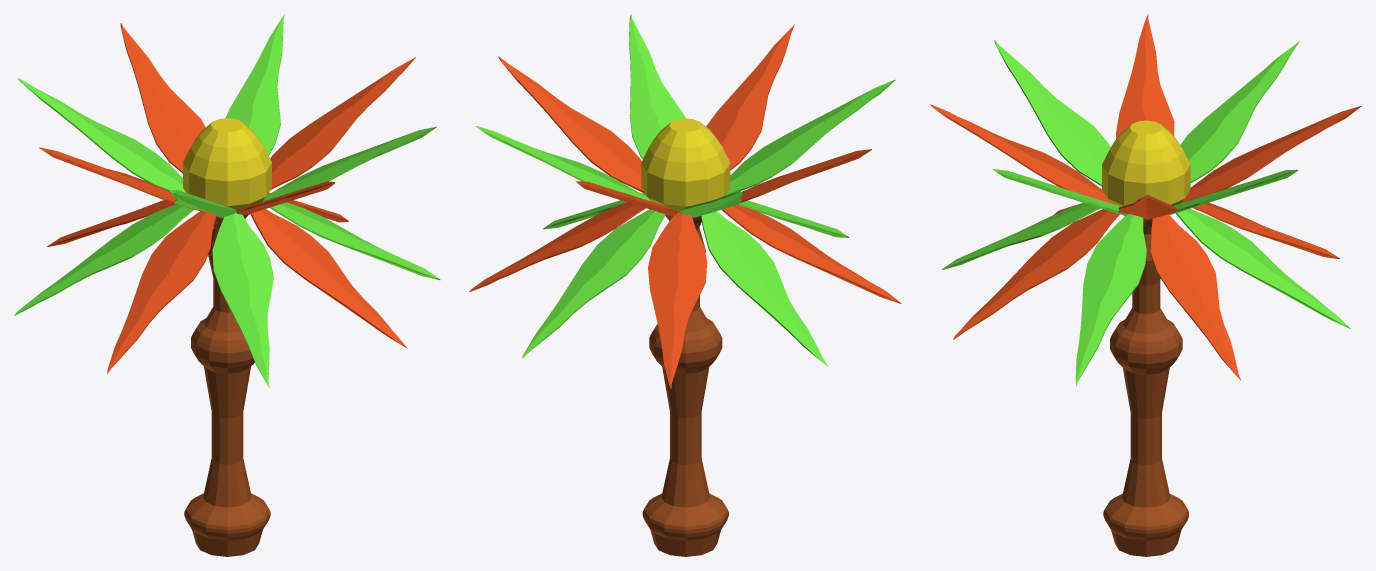
File: Anim Tree.fbx
3 renders of one model, left to right at view 1: azimuth 30°, elevation 25°; view 2: azimuth 150°, elevation 25°; view 3: azimuth 270°, elevation 25°, orthographic.
Visible parts, largest first — view 1: Cylinder.007, Plane.071, Plane.073, Plane.092, Plane.062, Plane.059, Plane.065, Plane.064, Plane.069, Plane.072, Plane.067, Plane.063 (+3 smaller); view 2: Cylinder.007, Plane.075, Plane.069, Plane.068, Plane.062, Plane.061, Plane.066, Plane.067, Plane.073, Plane.074, Plane.064, Plane.063 (+4 smaller); view 3: Cylinder.007, Plane.072, Plane.074, Plane.066, Plane.065, Plane.092, Plane.068, Plane.063, Plane.059, Plane.061, Plane.071, Plane.075 (+3 smaller).
Part boxes in pixels (bbox=[...]): Cylinder.007: bbox=[183, 118, 271, 556]; Plane.071: bbox=[212, 213, 273, 387]; Plane.073: bbox=[107, 210, 216, 373]; Plane.092: bbox=[250, 209, 407, 348]; Plane.062: bbox=[270, 57, 415, 190]; Plane.059: bbox=[120, 23, 205, 173]; Plane.065: bbox=[18, 78, 185, 192]; Plane.064: bbox=[225, 14, 284, 155]; Plane.069: bbox=[14, 204, 193, 315]; Plane.072: bbox=[269, 202, 440, 280]; Plane.067: bbox=[262, 126, 436, 201]; Plane.063: bbox=[39, 147, 200, 210]; Cylinder.007: bbox=[641, 118, 730, 556]; Plane.075: bbox=[648, 212, 707, 388]; Plane.069: bbox=[701, 211, 828, 366]; Plane.068: bbox=[522, 209, 665, 358]; Plane.062: bbox=[498, 56, 644, 193]; Plane.061: bbox=[706, 24, 794, 170]; Plane.066: bbox=[726, 79, 895, 194]; Plane.067: bbox=[629, 14, 685, 158]; Plane.073: bbox=[721, 204, 901, 303]; Plane.074: bbox=[469, 202, 645, 291]; Plane.064: bbox=[476, 126, 649, 200]; Plane.063: bbox=[741, 149, 871, 202]; Cylinder.007: bbox=[1102, 120, 1190, 556]; Plane.072: bbox=[1075, 214, 1146, 385]; Plane.074: bbox=[1150, 214, 1240, 380]; Plane.066: bbox=[994, 40, 1110, 186]; Plane.065: bbox=[1180, 41, 1299, 183]; Plane.092: bbox=[953, 209, 1119, 339]; Plane.068: bbox=[1176, 208, 1350, 328]; Plane.063: bbox=[1115, 14, 1174, 138]; Plane.059: bbox=[1181, 106, 1361, 202]; Plane.061: bbox=[930, 104, 1111, 203]; Plane.071: bbox=[942, 203, 1100, 269]; Plane.075: bbox=[1193, 202, 1339, 259].
Bounding box in the file's own units: 1182 × 1326 × 1182.
